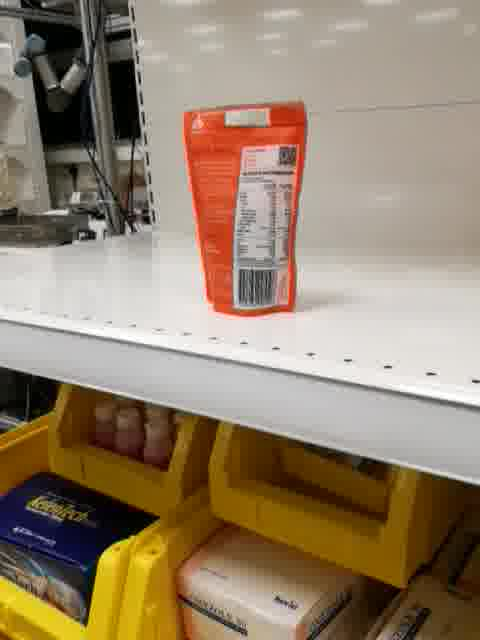whitechia: (178, 97, 310, 319)
